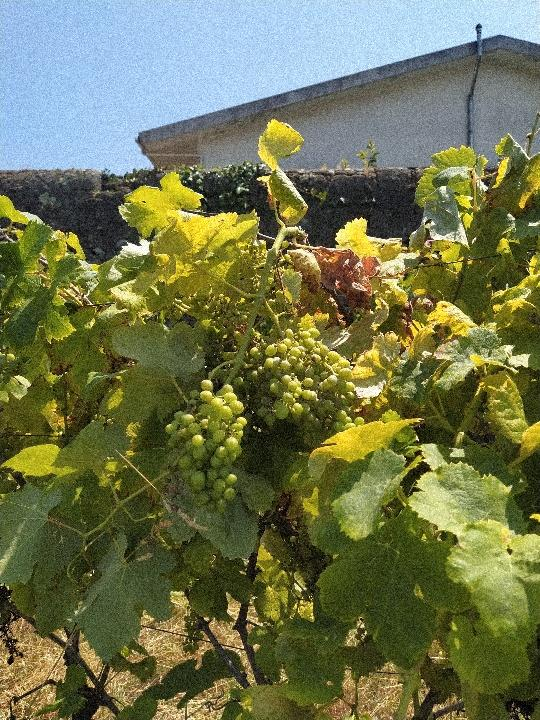grape: (243, 324, 368, 438), (163, 378, 249, 517)
